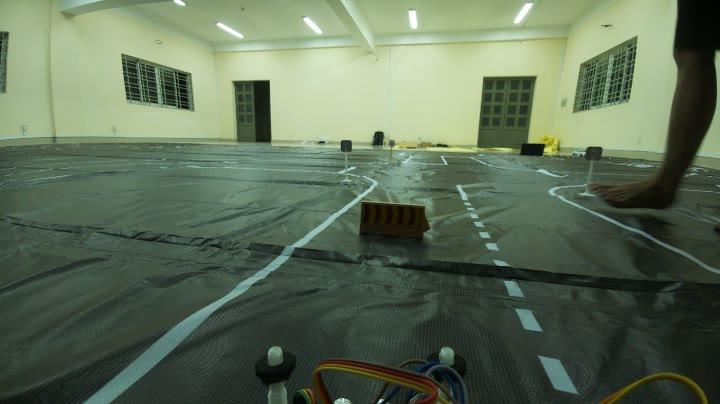roadblock: (351, 196, 436, 253)
